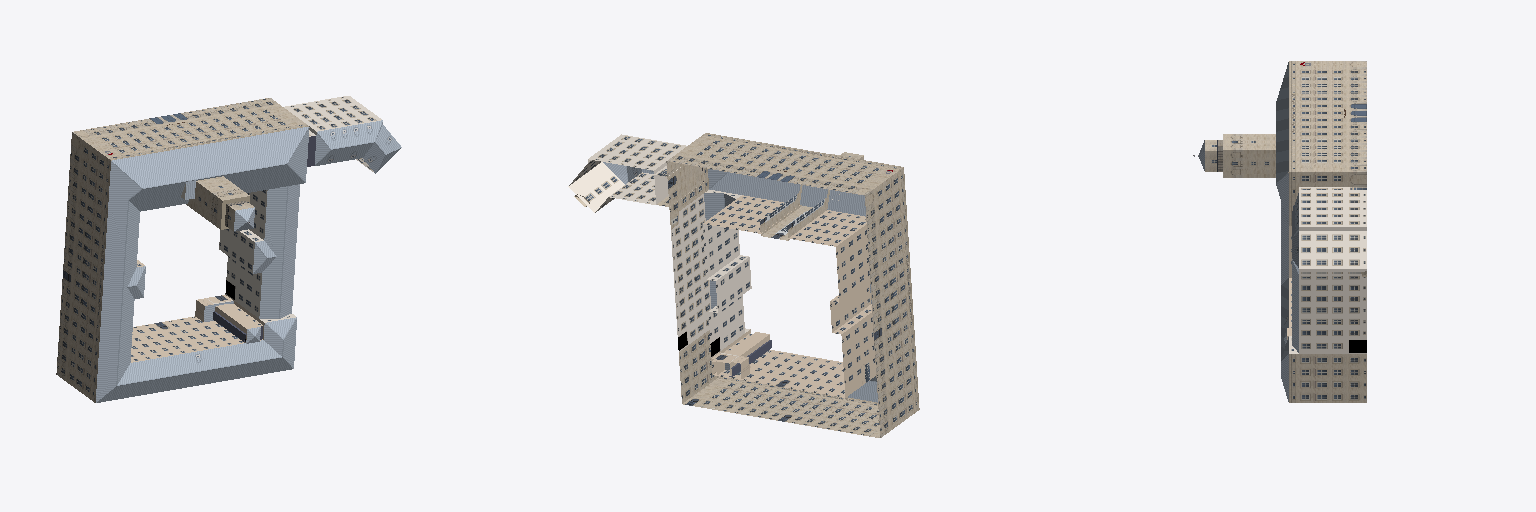
3 views of the same model, side by side, from view 1: azimuth 30°, elevation 25°; view 2: azimuth 150°, elevation 25°; view 3: azimuth 270°, elevation 25° (orthographic).
Parts seen in each view (by area): view 1: L; view 2: L; view 3: L.
Part boxes in pixels (bbox=[...]): L: bbox=[56, 96, 401, 402]; L: bbox=[568, 133, 919, 437]; L: bbox=[1193, 61, 1366, 402].
Bounding box in the file's own units: 91.87 × 71.28 × 44.49.
1 materials, 1 textured.